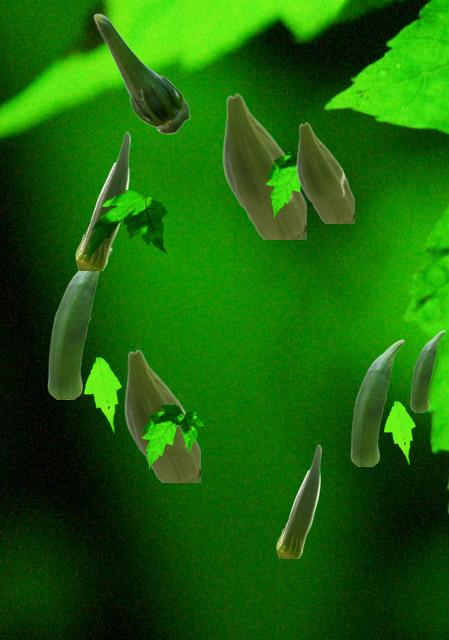okra: (222, 93, 305, 238), (93, 13, 189, 133), (124, 349, 199, 481), (47, 248, 111, 398), (75, 131, 129, 269), (350, 339, 403, 465), (296, 122, 353, 222), (276, 444, 320, 557), (410, 330, 444, 411)
